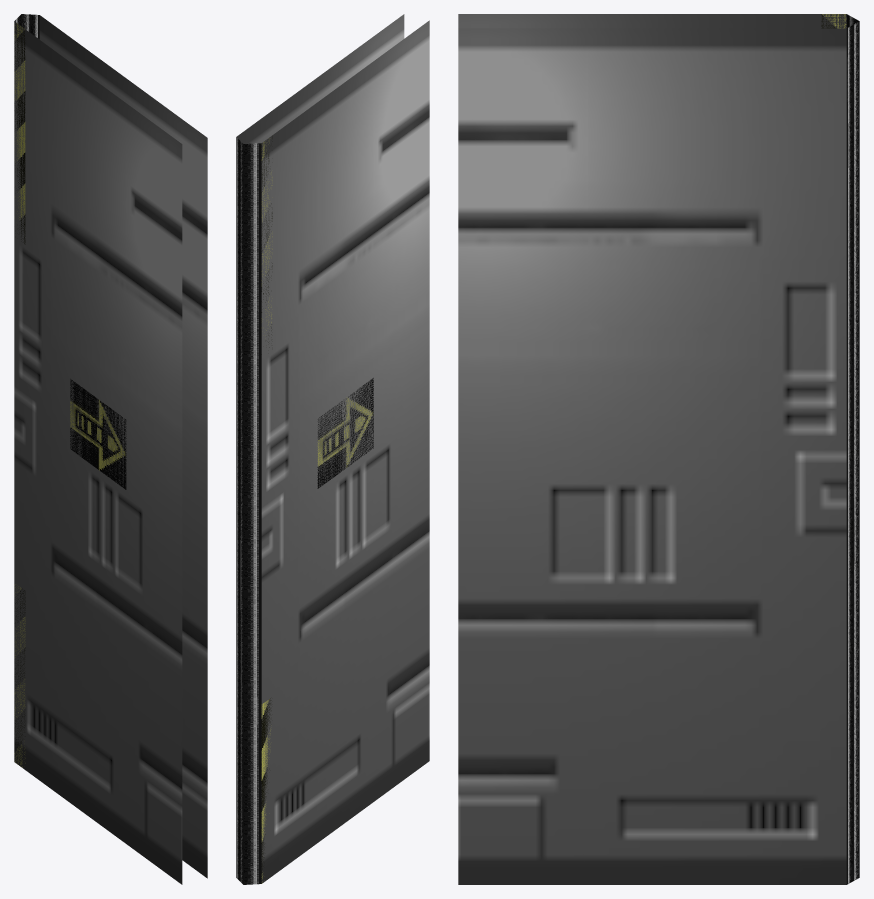
File: primary_156.glb
The picture shows the model from 3 angles, left to right: view 1: azimuth 30°, elevation 25°; view 2: azimuth 150°, elevation 25°; view 3: azimuth 270°, elevation 25°; orthographic projection. The views are drawn at different scales.
Parts seen in each view (by area): view 1: Object; view 2: Object; view 3: Object.
Part boxes in pixels (x1=…): Object: x1=14, y1=14, x2=207, y2=884; Object: x1=236, y1=14, x2=429, y2=884; Object: x1=458, y1=14, x2=859, y2=884.
Size of the model in its own units: 0.1049 by 2.92 by 1.24.
6 materials, 6 textured.
